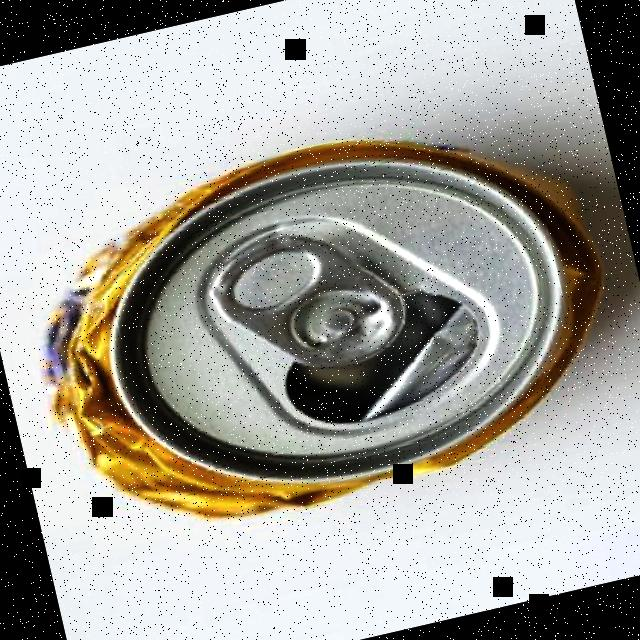can: (2, 79, 640, 563)
